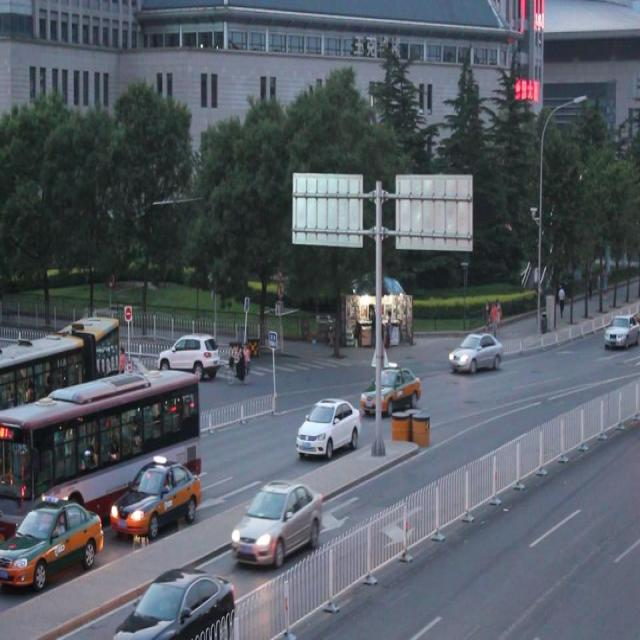car: (1, 494, 103, 589), (113, 567, 233, 640), (229, 481, 323, 564), (113, 455, 201, 537), (293, 397, 360, 456), (360, 360, 418, 417), (159, 332, 218, 384), (445, 329, 503, 376), (128, 367, 172, 413)
van: (1, 372, 200, 544), (1, 319, 120, 423)
